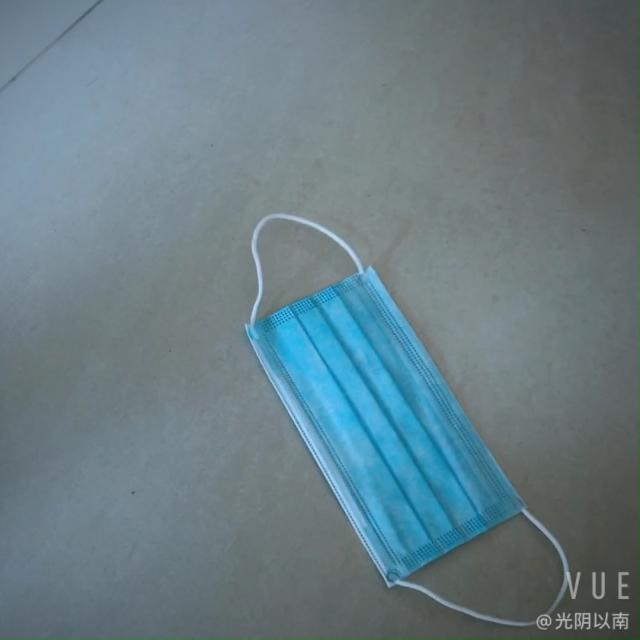non-organic waste: (244, 262, 519, 583)
